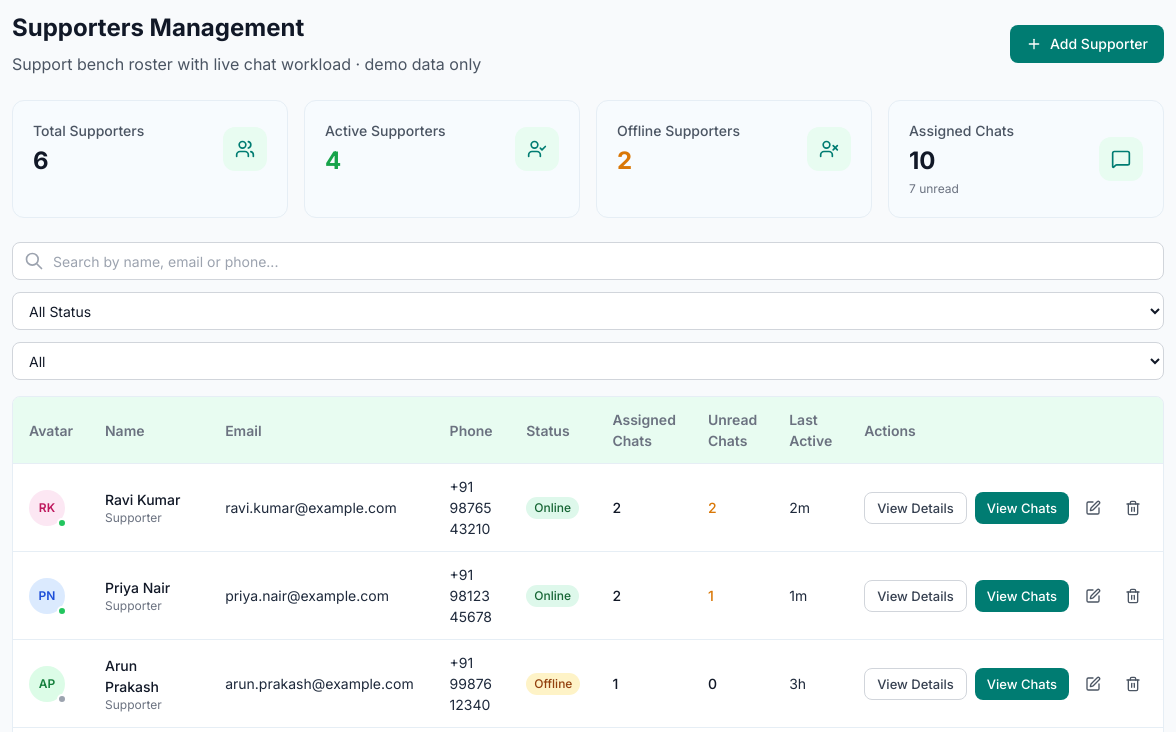
it: SupportersPage › filters the table by supporter name
Type "Priya" into the field with placeholder "Search by name, email or phone...".
click(588, 261); type("Priya")  # box [12,242,1164,280]
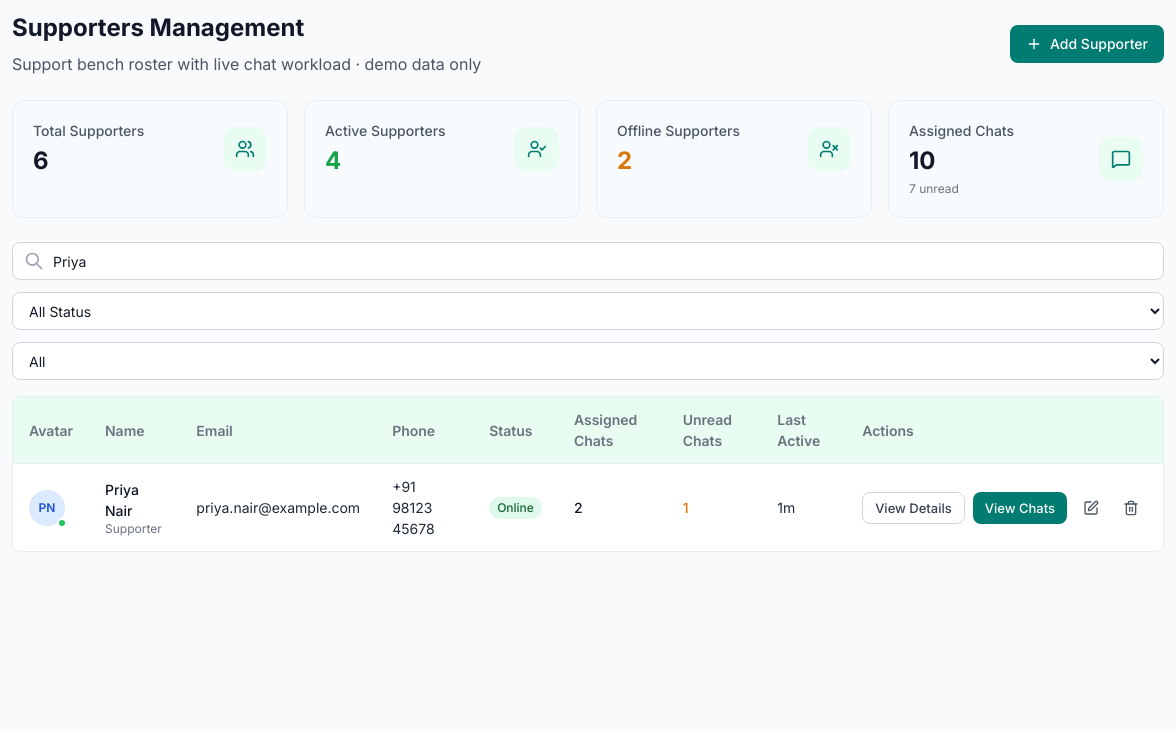
Check: the text "Priya Nair" is shown, box [105,480,139,518]
Check: the text "Ravi Kumar" is gone
